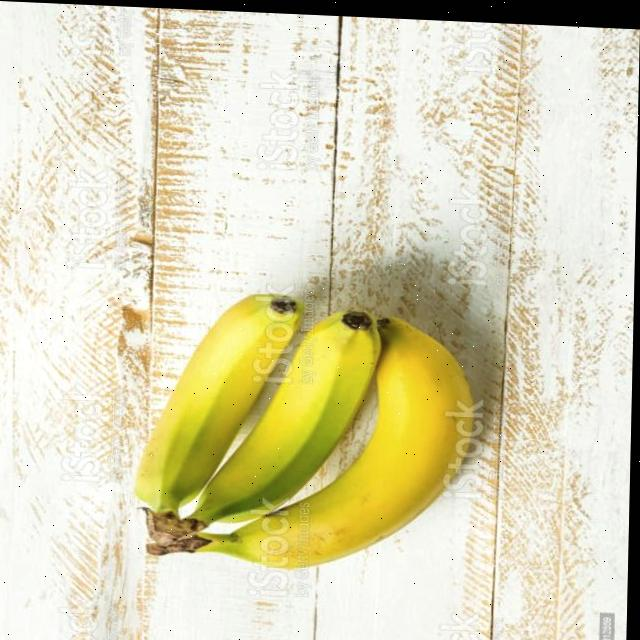banana: (125, 282, 493, 581)
